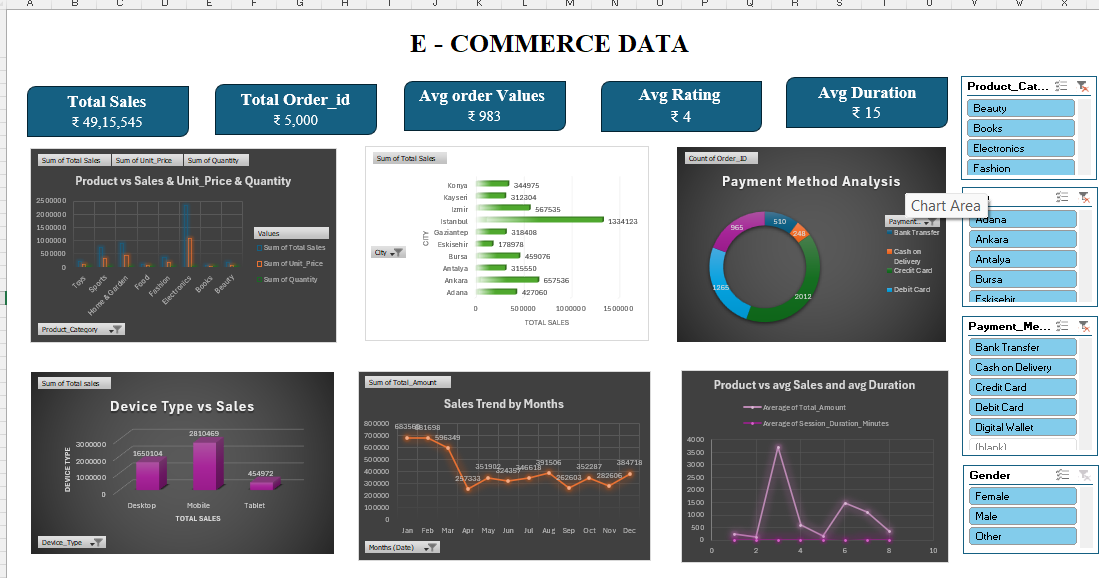

The dashboard page shown, as its layout file describes it:
{"tool":"powerbi","page":{"name":"E-Commerce analysis","canvas":[1280,720],"ordinal":0},"visuals":[{"type":"card","fields":{"Values":["e commerce dataset formet.Total revenue"]},"box":[24.7,112.5,255.2,150.9],"z":0},{"type":"card","fields":{"Values":["e commerce dataset formet.Total Orders"]},"box":[338.9,112.5,255.2,150.9],"z":1000},{"type":"card","fields":{"Values":["Avg(e commerce dataset formet.Total sales)"]},"box":[662.8,112.5,255.2,150.9],"z":2000},{"type":"card","fields":{"Values":["Avg(e commerce dataset formet.Customer_Rating)"]},"box":[979.8,112.5,255.2,150.9],"z":3000},{"type":"textbox","box":[0,12.3,1270.7,87.8],"z":4000},{"type":"clusteredColumnChart","fields":{"Category":["e commerce dataset formet.Product_Category"],"Y":["e commerce dataset formet.Total revenue"]},"box":[338.9,318.4,440.5,351.3],"z":5000},{"type":"donutChart","fields":{"Y":["e commerce dataset formet.Total Orders"],"Category":["e commerce dataset formet.Payment_Method"]},"box":[824.7,318.4,410.3,351.3],"z":6000},{"type":"slicer","fields":{"Values":["e commerce dataset formet.City"]},"box":[24.7,300.5,255.2,119.4],"z":7000},{"type":"slicer","fields":{"Values":["e commerce dataset formet.Product_Category"]},"box":[24.7,437.7,255.2,112.5],"z":8000},{"type":"slicer","fields":{"Values":["e commerce dataset formet.Payment_Method"]},"box":[24.7,565.4,255.2,123.5],"z":9000}]}

Visuals, with their boxes on the page's 1280x720 design canvas (x1, y1, x2, y2). These are canvas units, not pixel positions in the 1099x578 screenshot, which may show the page scaled, cropped or inside an application window:
card - e commerce dataset formet.Total revenue: bbox=(25, 112, 280, 263)
card - e commerce dataset formet.Total Orders: bbox=(339, 112, 594, 263)
card - Avg(e commerce dataset formet.Total sales): bbox=(663, 112, 918, 263)
card - Avg(e commerce dataset formet.Customer_Rating): bbox=(980, 112, 1235, 263)
textbox: bbox=(0, 12, 1271, 100)
clusteredColumnChart - e commerce dataset formet.Product_Category x e commerce dataset formet.Total revenue: bbox=(339, 318, 779, 670)
donutChart - e commerce dataset formet.Total Orders x e commerce dataset formet.Payment_Method: bbox=(825, 318, 1235, 670)
slicer - e commerce dataset formet.City: bbox=(25, 300, 280, 420)
slicer - e commerce dataset formet.Product_Category: bbox=(25, 438, 280, 550)
slicer - e commerce dataset formet.Payment_Method: bbox=(25, 565, 280, 689)
